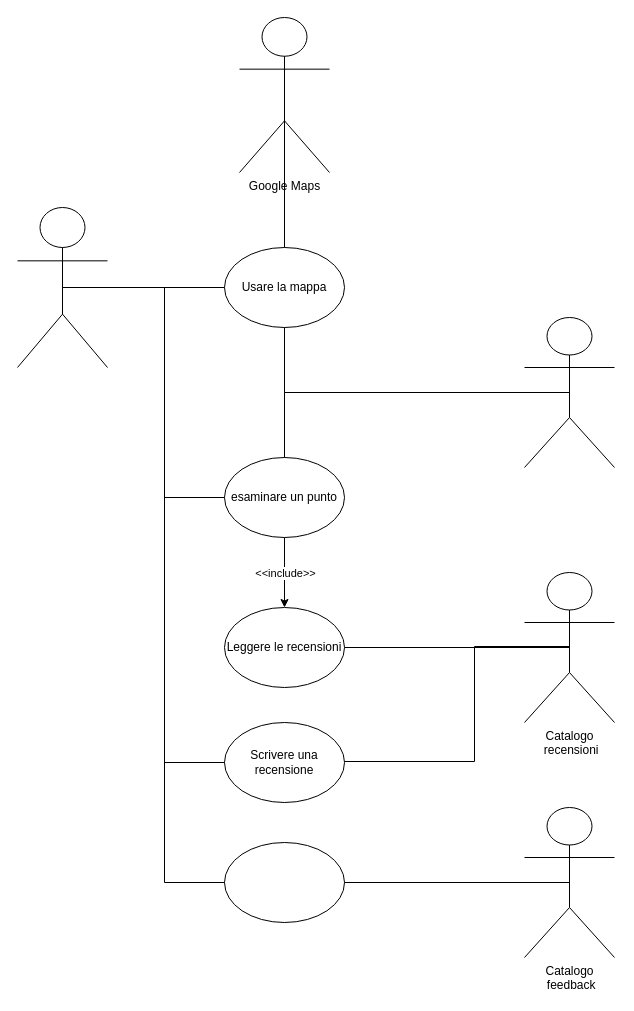
Some shapes in this 634 by 1011 pixel diagram are drawn without their labels. Here are the shapes that lost their labels. From the top down, the centre of each, then its label:
At (x=62, y=287): "Utente".
At (x=569, y=392): "Catalogo punti di interesse".
At (x=284, y=882): "Scrivere un feedback".
